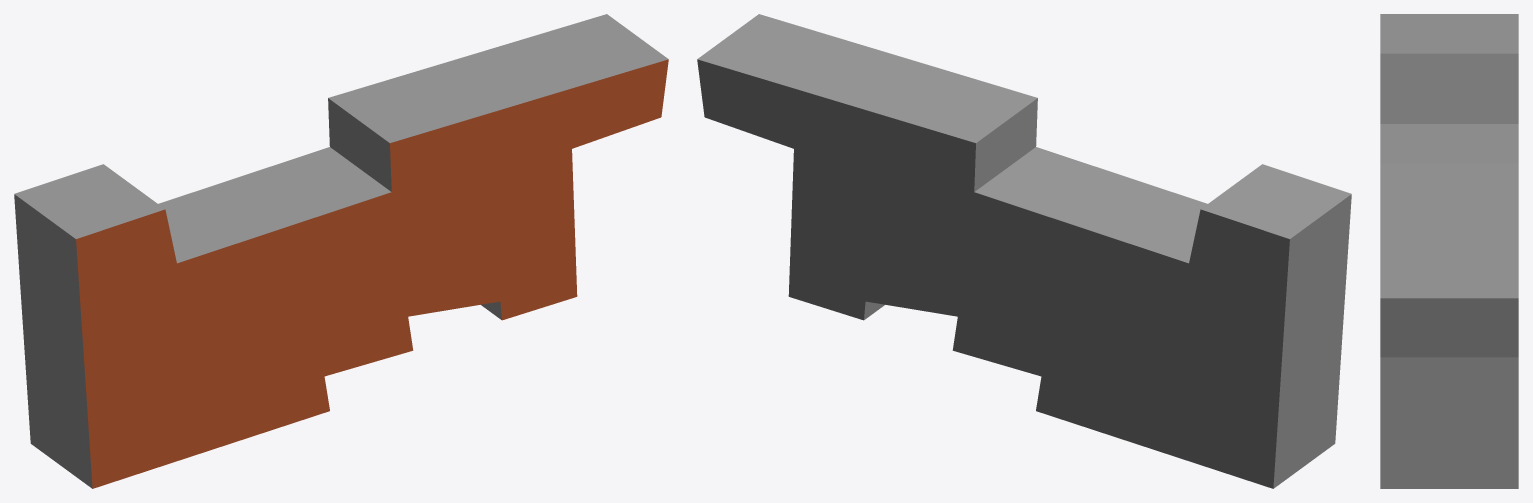
Rendered from construction_1280_assumed_A_Casa_h6m.obj.
3 renders of one model, left to right at view 1: azimuth 30°, elevation 25°; view 2: azimuth 150°, elevation 25°; view 3: azimuth 270°, elevation 25°, orthographic. The views are drawn at different scales.
Visible parts, largest first — view 1: construction_1280_assumed_A_Casa; view 2: construction_1280_assumed_A_Casa; view 3: construction_1280_assumed_A_Casa.
Boxes of the visible parts, x1,y1,x2,y2 form: construction_1280_assumed_A_Casa: (14,14,668,488); construction_1280_assumed_A_Casa: (697,14,1351,488); construction_1280_assumed_A_Casa: (1380,14,1518,488).
Bounding box in the file's own units: 33.19 × 15.47 × 6.
